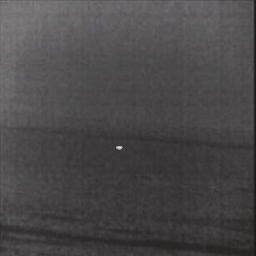Target: (115, 143, 124, 151)
